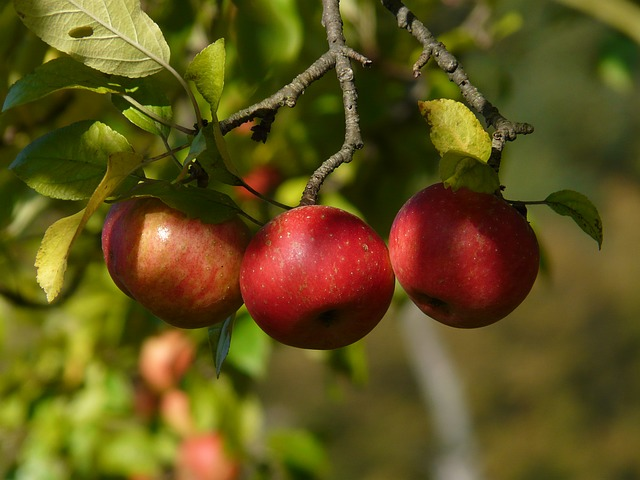apple: (233, 198, 396, 357), (90, 188, 255, 342), (387, 174, 541, 338)
